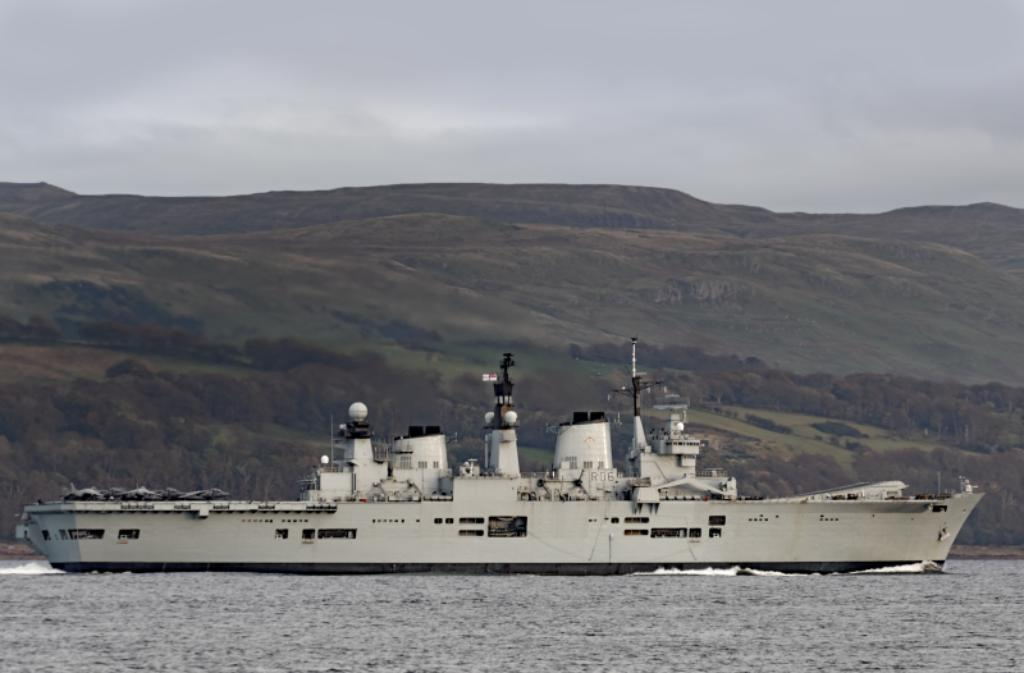Warship: (9, 325, 989, 581)
